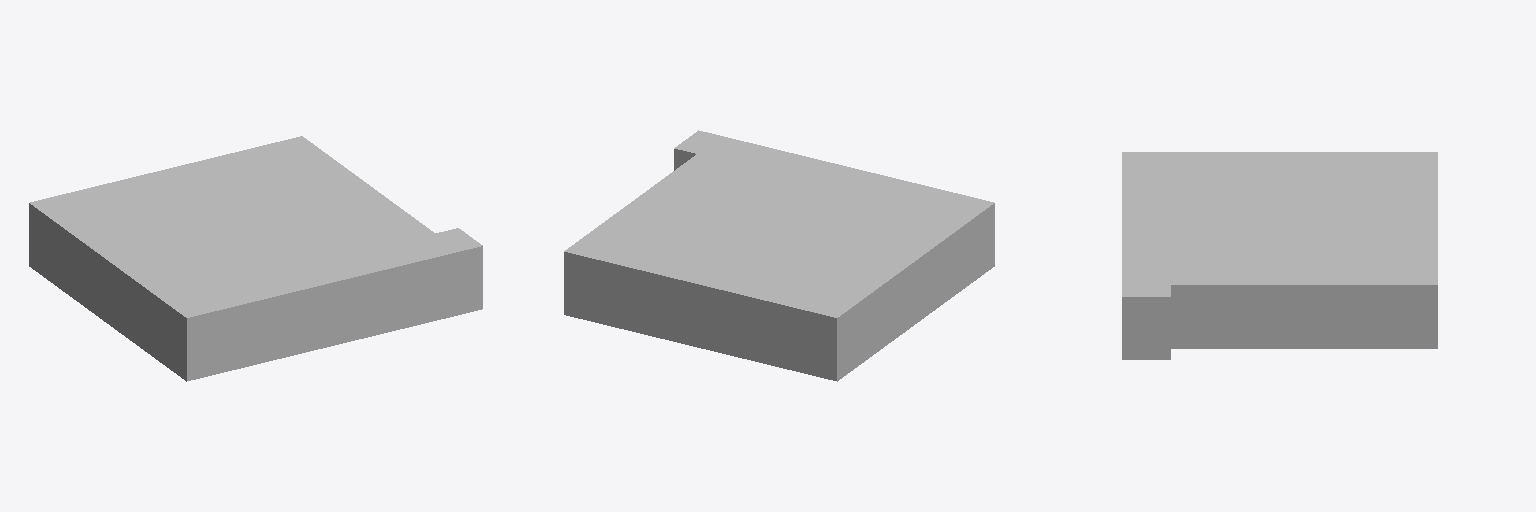
The model's file is Room_LowPoly.obj.
3 views of the same model, side by side, from view 1: azimuth 30°, elevation 25°; view 2: azimuth 150°, elevation 25°; view 3: azimuth 270°, elevation 25° (orthographic).
Visible parts, largest first — view 1: Plane.002; view 2: Plane.002; view 3: Plane.002.
Boxes of the visible parts, x1=… form: Plane.002: x1=29, y1=136, x2=482, y2=381; Plane.002: x1=564, y1=130, x2=994, y2=381; Plane.002: x1=1122, y1=152, x2=1437, y2=359.
Bounding box in the file's own units: 43.38 × 8.86 × 40.